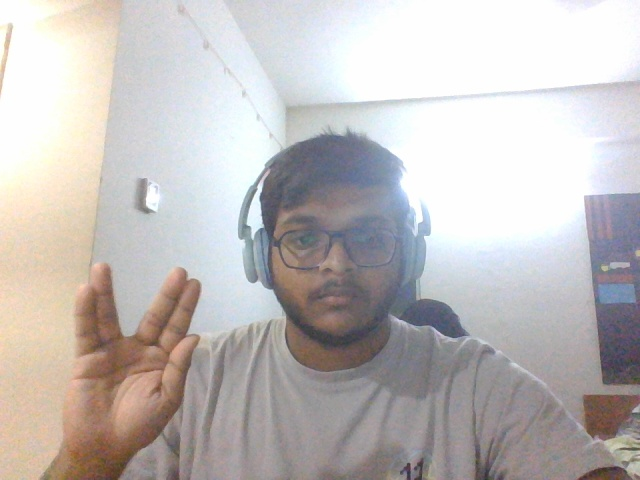LiveLong: (64, 264, 201, 456)
